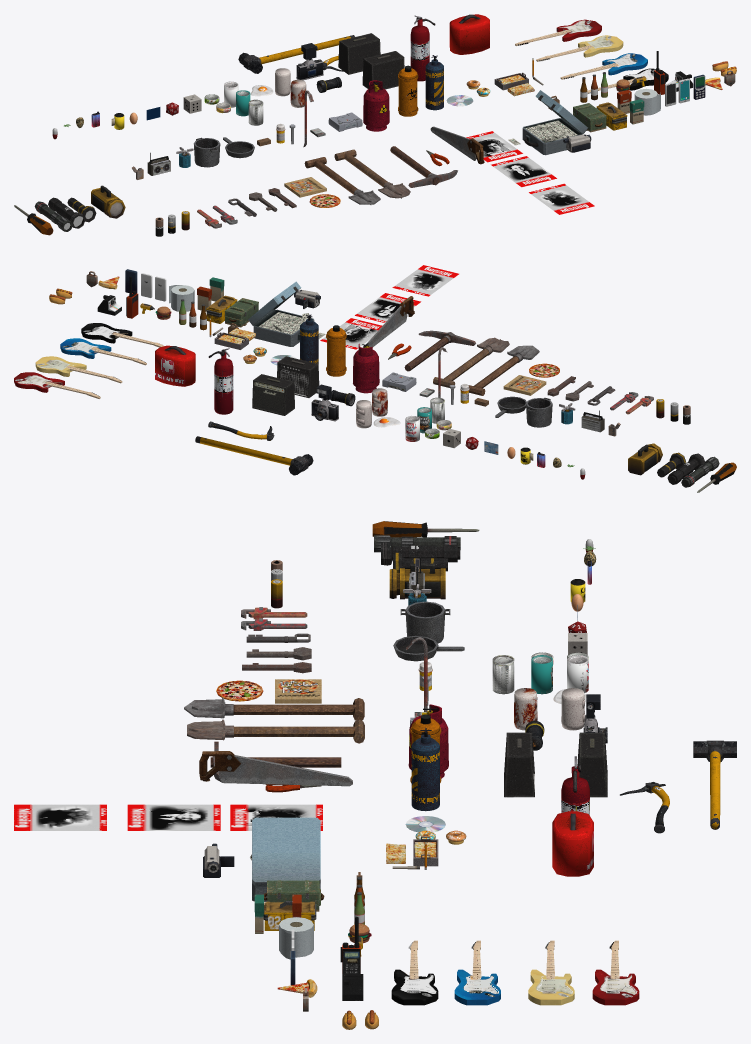
Rendered from MISC_2025.glb.
The picture shows the model from 3 angles, top to bottom: view 1: azimuth 30°, elevation 25°; view 2: azimuth 150°, elevation 25°; view 3: azimuth 270°, elevation 25°; orthographic projection. The views are drawn at different scales.
Parts seen in each view (by area): view 1: Money_Case, Medkit, Amplifier_Variant_1, Amplifier_Variant_2, Gas_V3, Poster_Missing_Variant_3, Poster_Missing_Variant_2, Extinguisher, Gas_V2, Gas_V1, Sledgehammer, Shovel_2 (+25 smaller); view 2: Money_Case, Medkit, Amplifier_Variant_1, Amplifier_Variant_2, Extinguisher, Poster_Missing_Variant_3, Gas_V3, Sledgehammer, Gas_V2, Shovel_2, Guitar_Variant_3, Shovel_1 (+25 smaller); view 3: Money_Case, Saw, Medkit, Poster_Missing_Variant_2, Poster_Missing_Variant_3, Shovel_2, Shovel_1, Gas_V1, Amplifier_Variant_2, Amplifier_Variant_1, Guitar_Variant_3, Guitar_Variant_1 (+21 smaller).
Part boxes in pixels (box(x1,y1,x2,y2)): Money_Case: box(522, 90, 587, 155); Medkit: box(449, 14, 489, 54); Amplifier_Variant_1: box(338, 33, 380, 74); Amplifier_Variant_2: box(362, 51, 404, 89); Gas_V3: box(363, 80, 389, 131); Poster_Missing_Variant_3: box(529, 183, 594, 214); Poster_Missing_Variant_2: box(491, 156, 556, 187); Extinguisher: box(410, 15, 435, 81); Gas_V2: box(398, 65, 418, 116); Gas_V1: box(425, 55, 443, 110); Sledgehammer: box(238, 35, 354, 73); Shovel_2: box(334, 149, 410, 198); Money_Case: box(248, 281, 314, 346); Medkit: box(155, 345, 195, 386); Amplifier_Variant_1: box(252, 374, 294, 415); Amplifier_Variant_2: box(277, 356, 319, 397); Extinguisher: box(208, 348, 233, 414); Poster_Missing_Variant_3: box(392, 265, 458, 296); Gas_V3: box(353, 343, 379, 393); Sledgehammer: box(195, 436, 313, 475); Gas_V2: box(326, 325, 346, 376); Shovel_2: box(433, 337, 509, 387); Guitar_Variant_3: box(35, 356, 122, 383); Shovel_1: box(468, 345, 539, 395); Money_Case: box(250, 817, 320, 901); Saw: box(199, 751, 352, 786); Medkit: box(552, 811, 593, 876); Poster_Missing_Variant_2: box(127, 804, 220, 830); Poster_Missing_Variant_3: box(14, 804, 106, 830); Shovel_2: box(187, 719, 364, 743); Shovel_1: box(184, 697, 364, 720); Gas_V1: box(411, 728, 439, 811); Amplifier_Variant_2: box(504, 732, 534, 797); Amplifier_Variant_1: box(577, 732, 607, 797); Guitar_Variant_3: box(528, 940, 574, 1005); Guitar_Variant_1: box(391, 940, 438, 1005).
Bounding box in the file's own units: 38.17 × 3.91 × 23.17.
97 materials, 97 textured.
